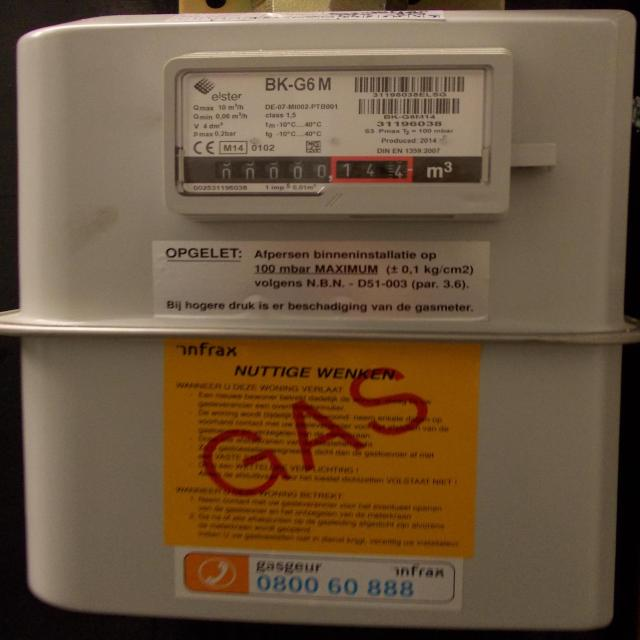gaz_meter: (175, 68, 493, 196)
indication: (201, 156, 416, 184)
